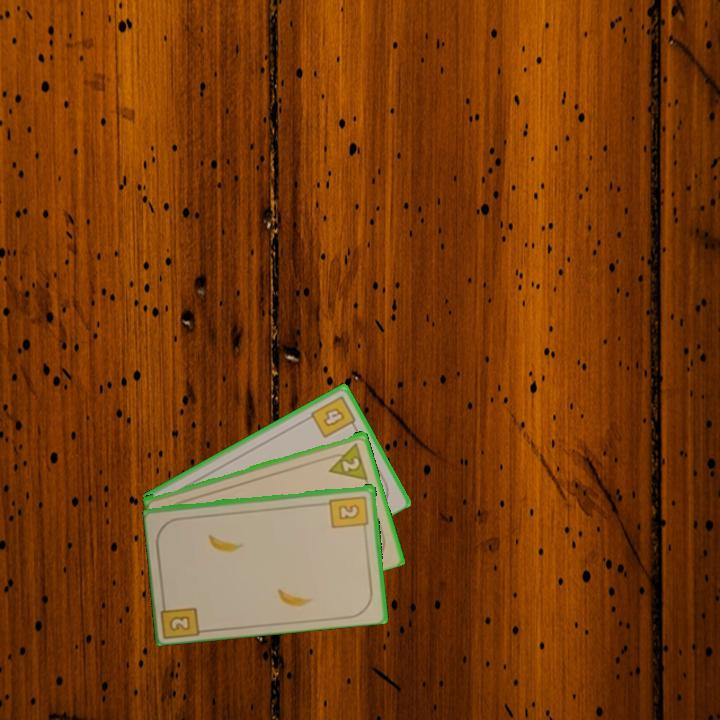2b: (159, 595, 204, 640), (327, 492, 371, 534)
2p: (323, 438, 371, 482)
4b: (307, 392, 360, 441)
